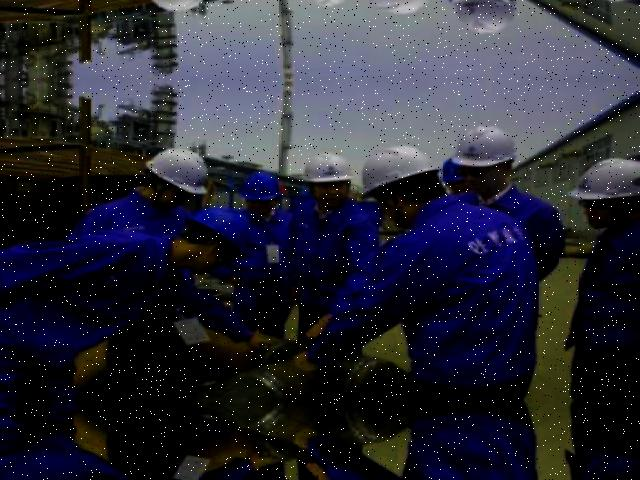Helmet: (566, 152, 640, 216), (359, 139, 447, 192), (138, 143, 217, 197), (177, 203, 265, 246), (448, 122, 520, 168), (298, 146, 359, 190), (238, 165, 290, 204)
